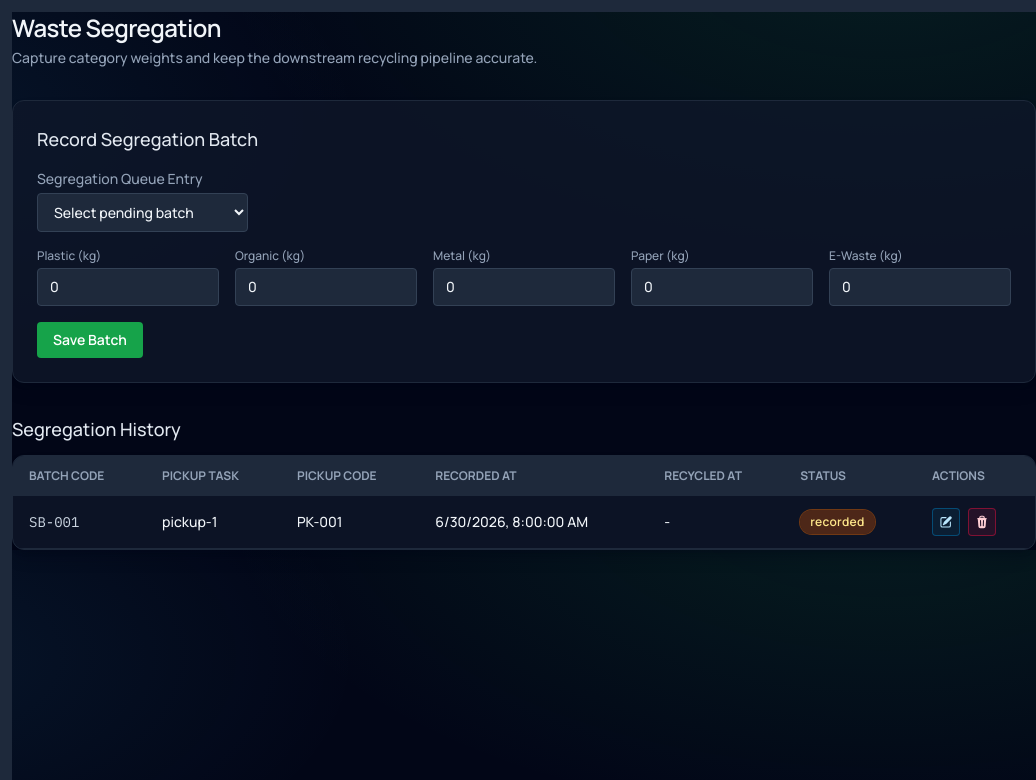
Test case: SegregationPage integration › shows backend recordBatch error text when submit fails
Select "SB-001 | PK-001 | pending" in the dropdown labelled "Segregation Queue Entry" at (142, 212), box [37, 193, 248, 232]
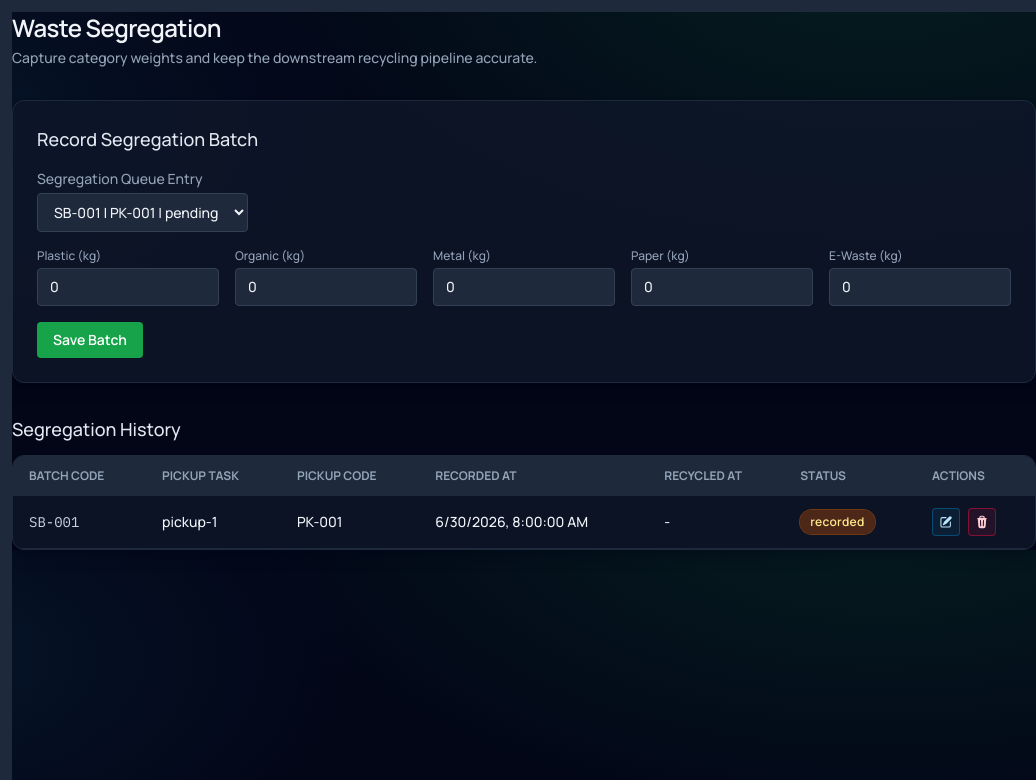
Replace the text in the number field labelled "Plastic (kg)" with "10" at (128, 287), box [37, 268, 219, 306]
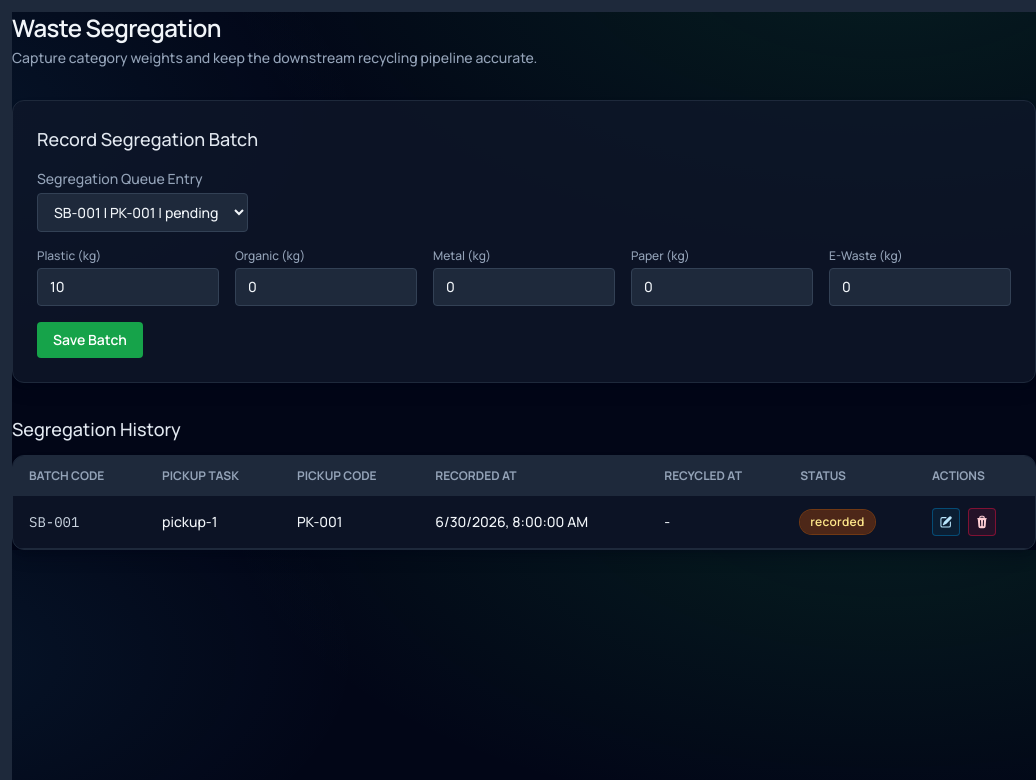
Click the button "Save Batch" at (90, 340), box [37, 322, 143, 358]
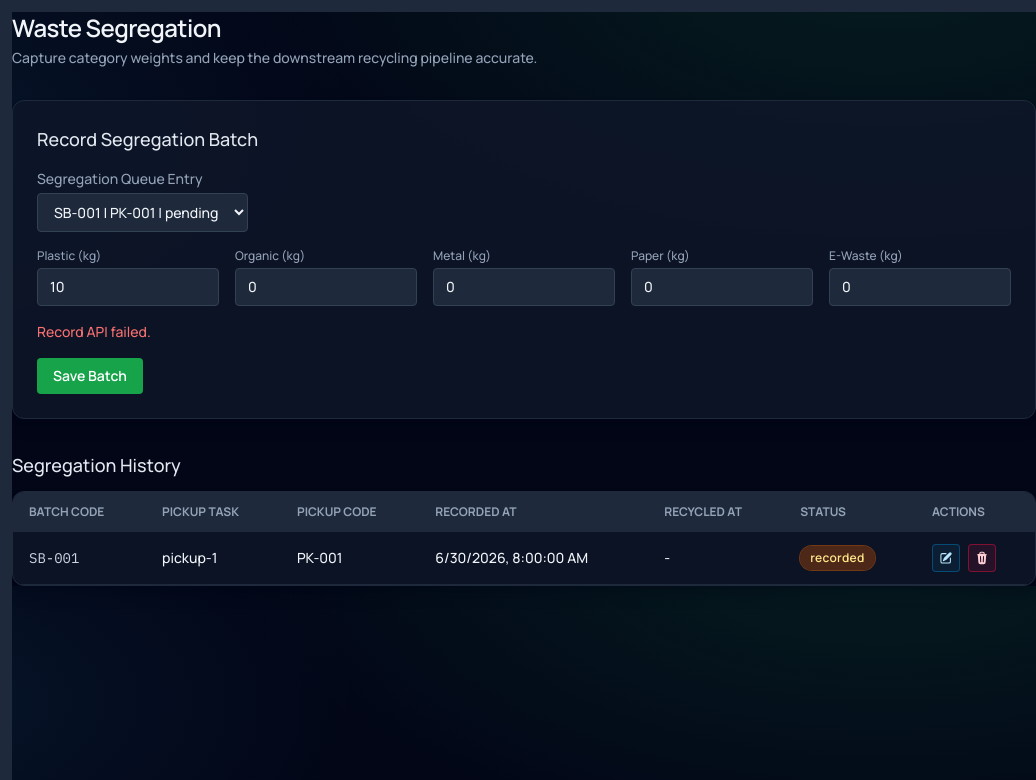
Check: the message reads "Record API failed.", box [37, 322, 151, 341]
